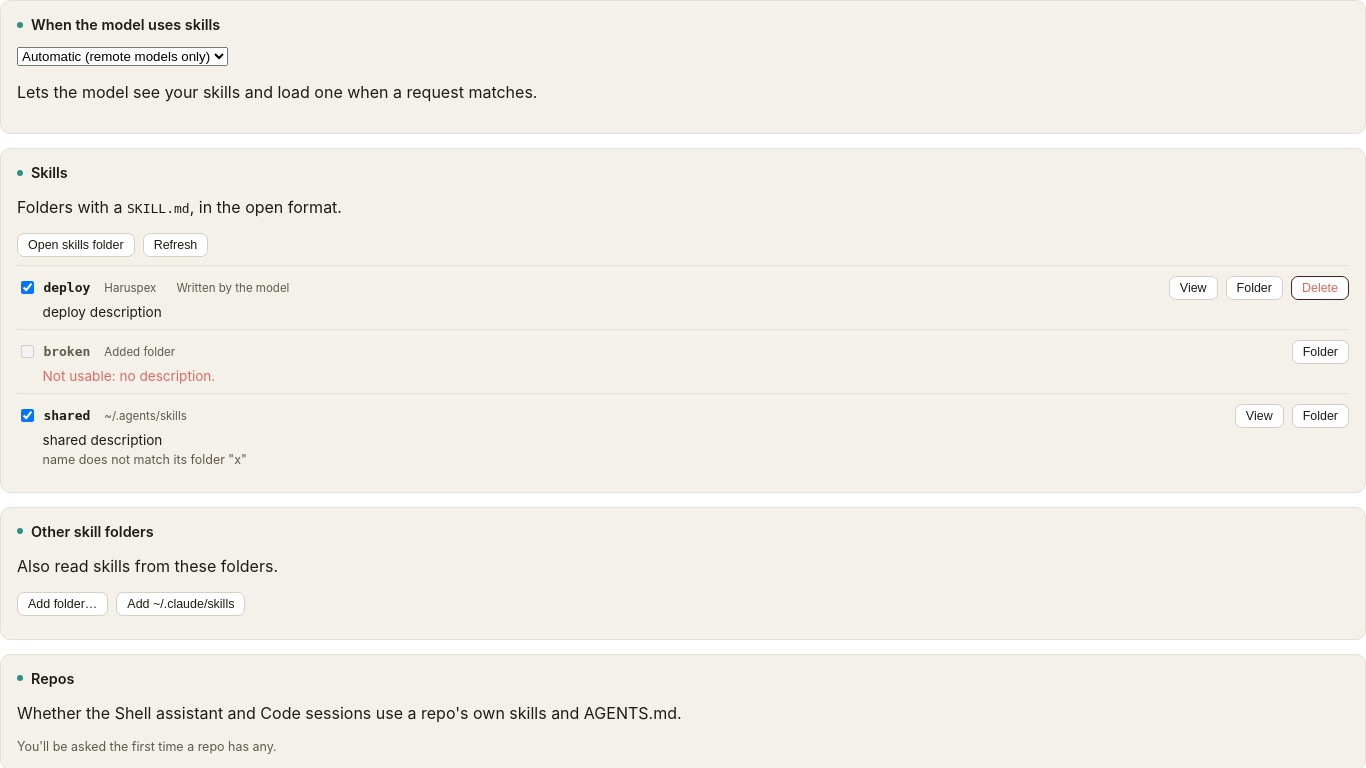
Scenario: Settings → Skills › deletes a user skill after confirming
The image size is (1366, 768).
Step 1. Click the button "Delete" → coordinates (1320, 288), box [1291, 276, 1349, 300]
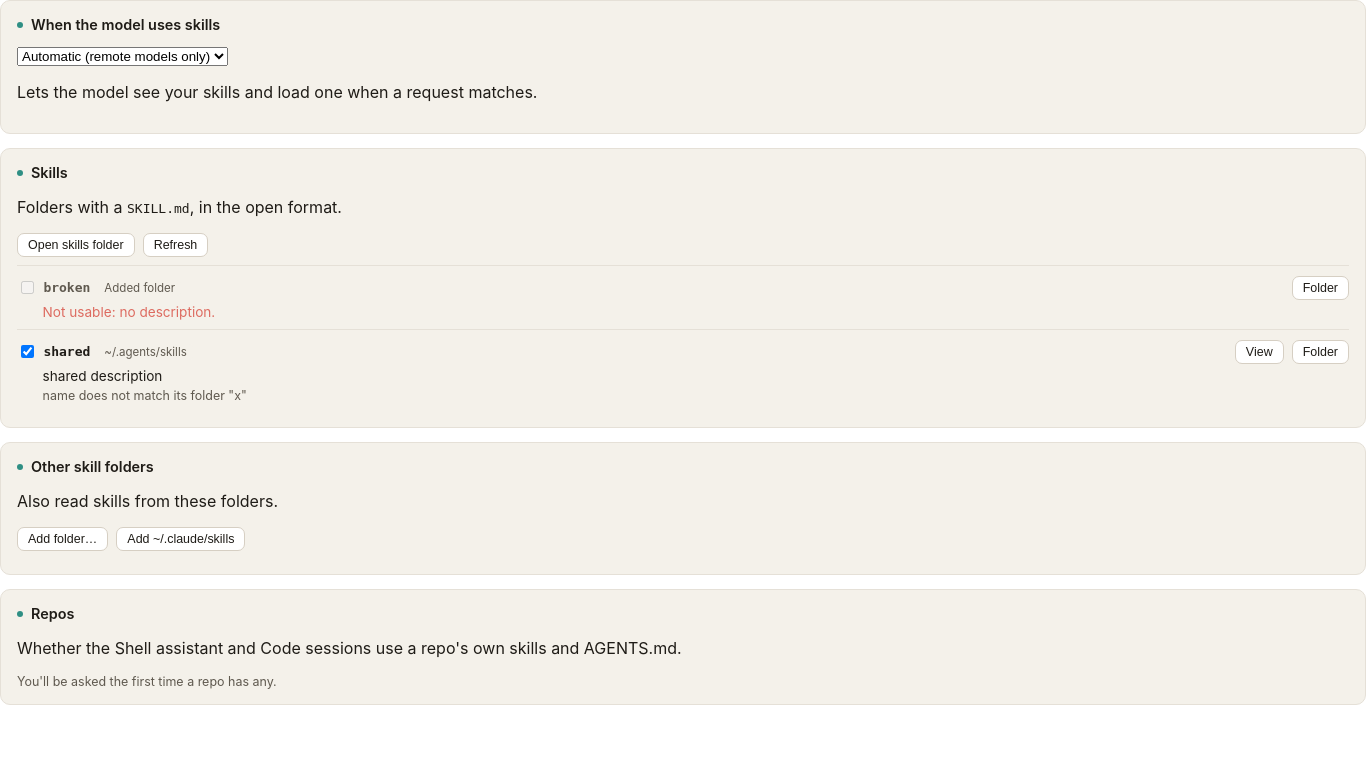
Check: the text "deploy" is gone
